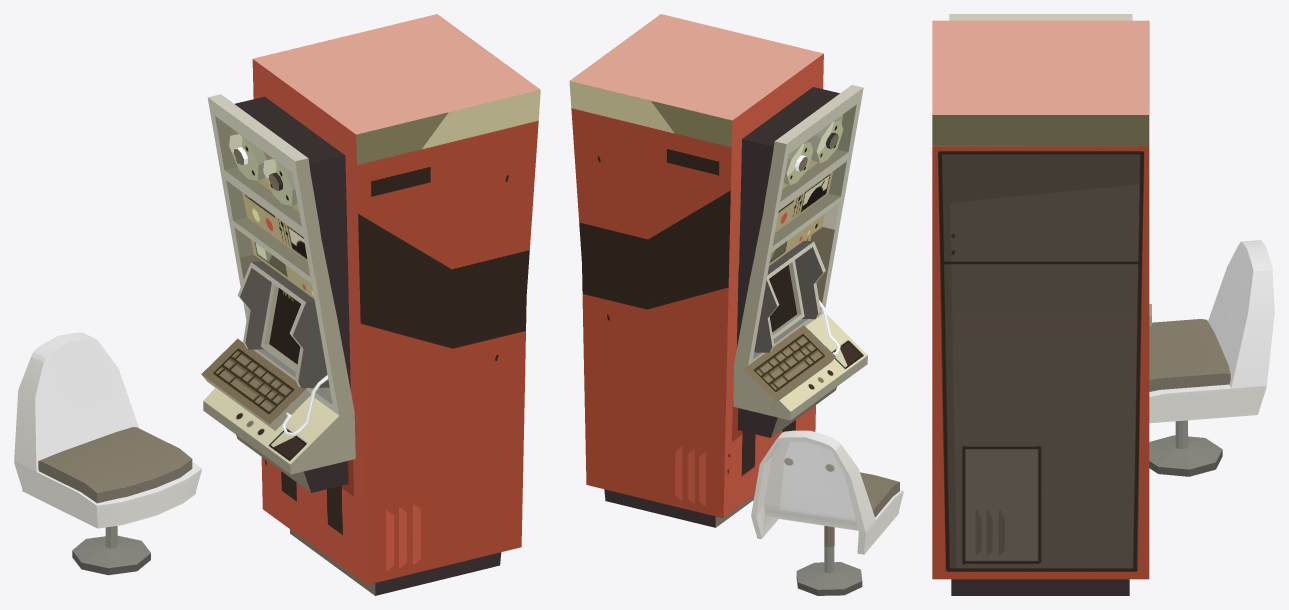
Rendered from comp.glb.
3 renders of one model, left to right at view 1: azimuth 30°, elevation 25°; view 2: azimuth 150°, elevation 25°; view 3: azimuth 270°, elevation 25°, orthographic. The views are drawn at different scales.
Visible parts, largest first — view 1: Object_16, Object_10, Object_20, Object_23, Object_24, Object_21, Object_22, Object_11, Object_15, Object_7, Object_6, Object_14 (+7 smaller); view 2: Object_16, Object_10, Object_23, Object_24, Object_21, Object_22, Object_20, Object_7, Object_15, Object_6, Object_14, Object_17 (+8 smaller); view 3: Object_16, Object_10, Object_20, Object_11, Object_21, Object_23, Object_18, Object_9, Object_19, Object_15.
Boxes of the visible parts, box(x1,y1,x2,y2) form: Object_16: box(252, 59, 540, 584); Object_10: box(253, 14, 540, 134); Object_20: box(31, 332, 201, 505); Object_23: box(235, 96, 501, 595); Object_24: box(202, 158, 355, 474); Object_21: box(14, 356, 201, 528); Object_22: box(207, 97, 339, 415); Object_11: box(38, 427, 191, 492); Object_15: box(72, 261, 329, 575); Object_7: box(201, 338, 305, 424); Object_6: box(203, 388, 338, 464); Object_14: box(215, 116, 314, 276); Object_16: box(569, 54, 823, 518); Object_10: box(570, 14, 823, 120); Object_23: box(604, 87, 839, 527); Object_24: box(733, 141, 867, 420); Object_21: box(751, 437, 903, 554); Object_22: box(748, 88, 863, 365); Object_20: box(776, 430, 902, 520); Object_7: box(743, 325, 835, 400); Object_15: box(754, 241, 862, 595); Object_6: box(779, 314, 867, 411); Object_14: box(755, 104, 856, 352); Object_17: box(769, 114, 842, 265); Object_16: box(932, 21, 1149, 579); Object_10: box(932, 20, 1148, 114); Object_20: box(1149, 240, 1274, 396); Object_11: box(1149, 319, 1230, 380); Object_21: box(1149, 386, 1266, 423); Object_23: box(951, 579, 1129, 595); Object_18: box(1149, 420, 1222, 469); Object_9: box(949, 14, 1131, 20); Object_19: box(1149, 320, 1230, 391); Object_15: box(1149, 449, 1222, 476).
Bounding box in the file's own units: 6.33 × 7.66 × 4.73.
28 materials, 7 textured.
